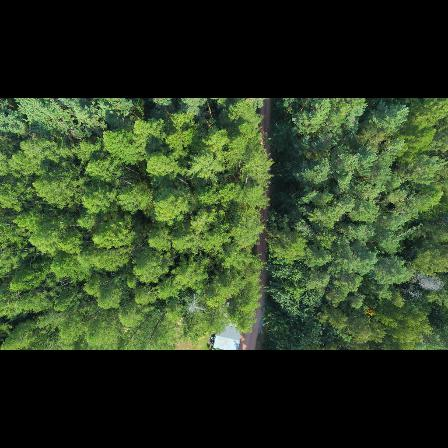Dead: (418, 272, 446, 292), (184, 295, 205, 315), (401, 285, 422, 302)
